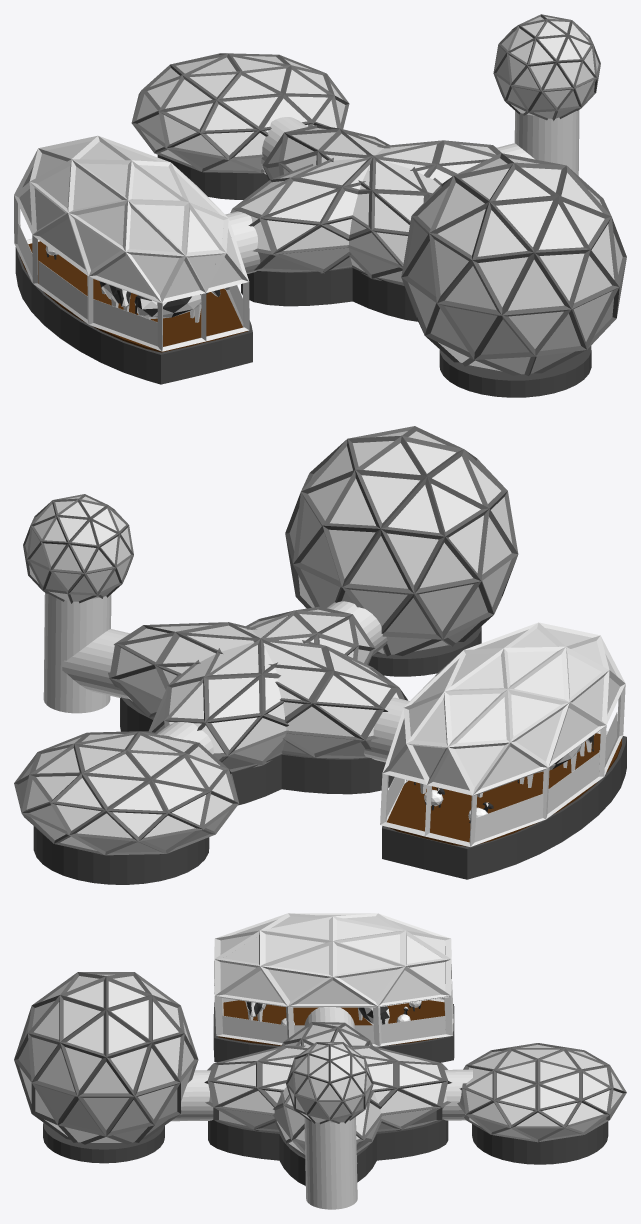
Rendered from MarsScienceLabBarn_1.fbx.
3 renders of one model, top to bottom at view 1: azimuth 30°, elevation 25°; view 2: azimuth 150°, elevation 25°; view 3: azimuth 270°, elevation 25°, orthographic. The views are drawn at different scales.
Parts seen in each view (by area): view 1: Icosphere.141; view 2: Icosphere.141; view 3: Icosphere.141.
Boxes of the visible parts, left/top/right/bottom form: Icosphere.141: left=14, top=14, right=626, bottom=397; Icosphere.141: left=14, top=426, right=626, bottom=884; Icosphere.141: left=14, top=913, right=626, bottom=1209.
Bounding box in the file's own units: 1161 × 436 × 1448.
